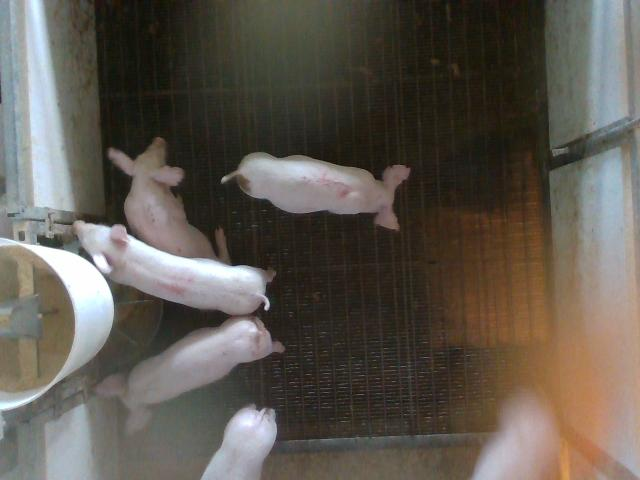pig-4: (74, 221, 275, 314)
pig-5: (221, 152, 410, 229)
